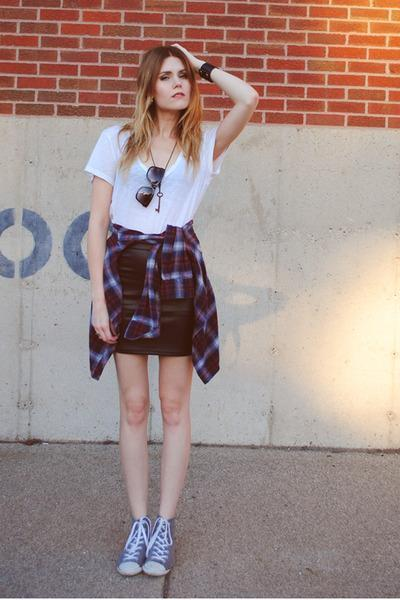jacket: (89, 219, 219, 383)
shirt: (84, 125, 215, 233)
shoe: (119, 514, 171, 574)
shorts: (109, 230, 196, 360)
sunglass: (137, 166, 164, 203)
